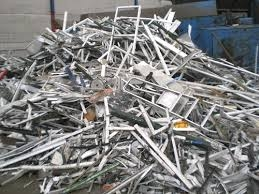metal: (118, 75, 251, 138), (127, 122, 192, 188), (100, 1, 151, 66), (6, 123, 97, 159), (18, 27, 69, 68), (146, 25, 195, 64), (5, 159, 106, 177), (20, 89, 73, 114), (84, 74, 110, 93)
